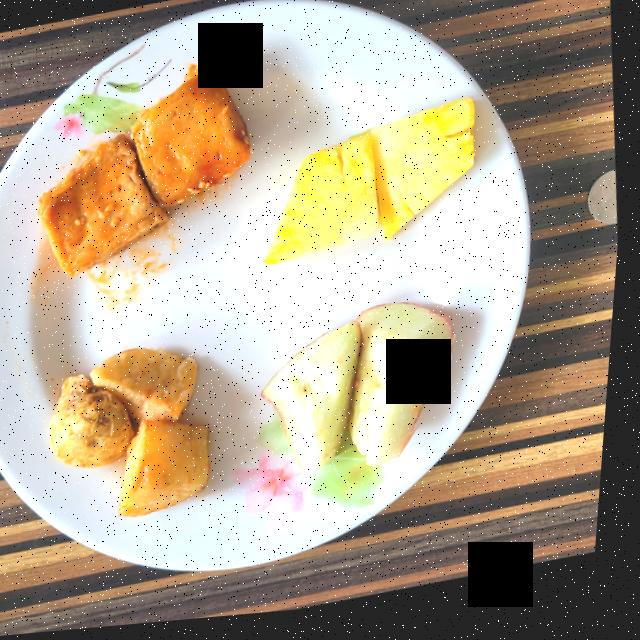coin: (591, 179, 621, 235)
creamy tofu: (41, 69, 253, 277)
fried potato: (57, 349, 217, 519)
pineapple: (269, 105, 477, 269)
